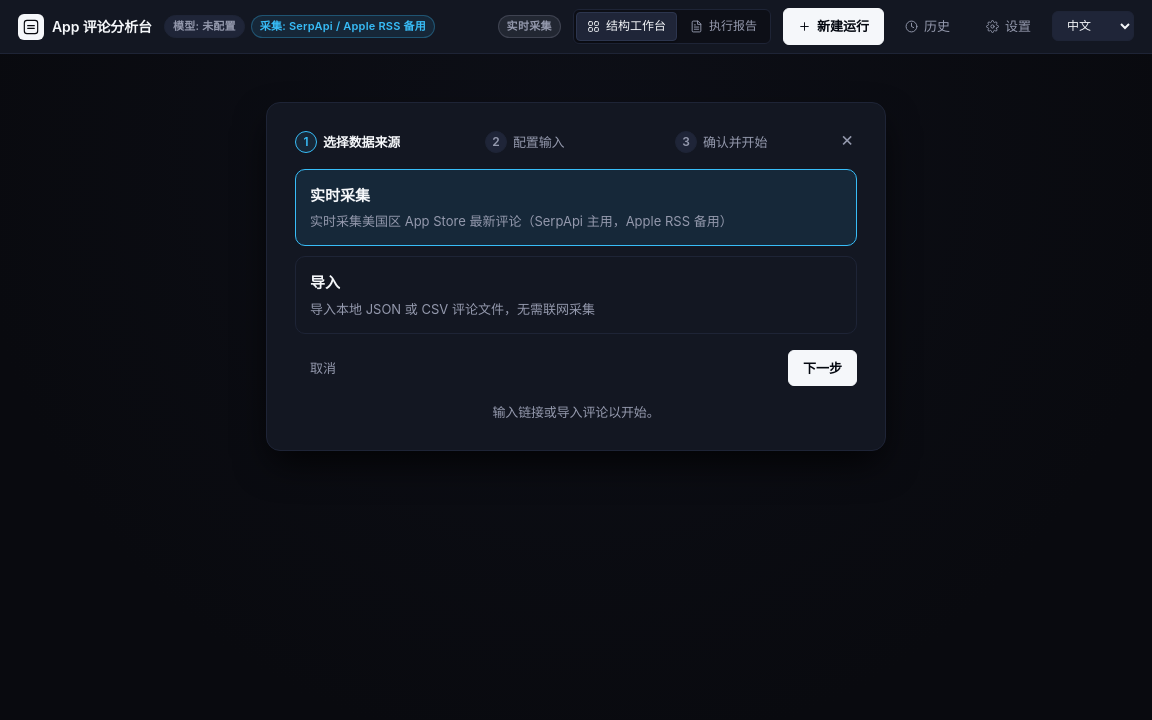
Workbench settings integration › opens the settings panel from the header button
The width and height of the screenshot is (1152, 720).
Click the button "设置" at [1008, 26], box [971,8,1046,44]
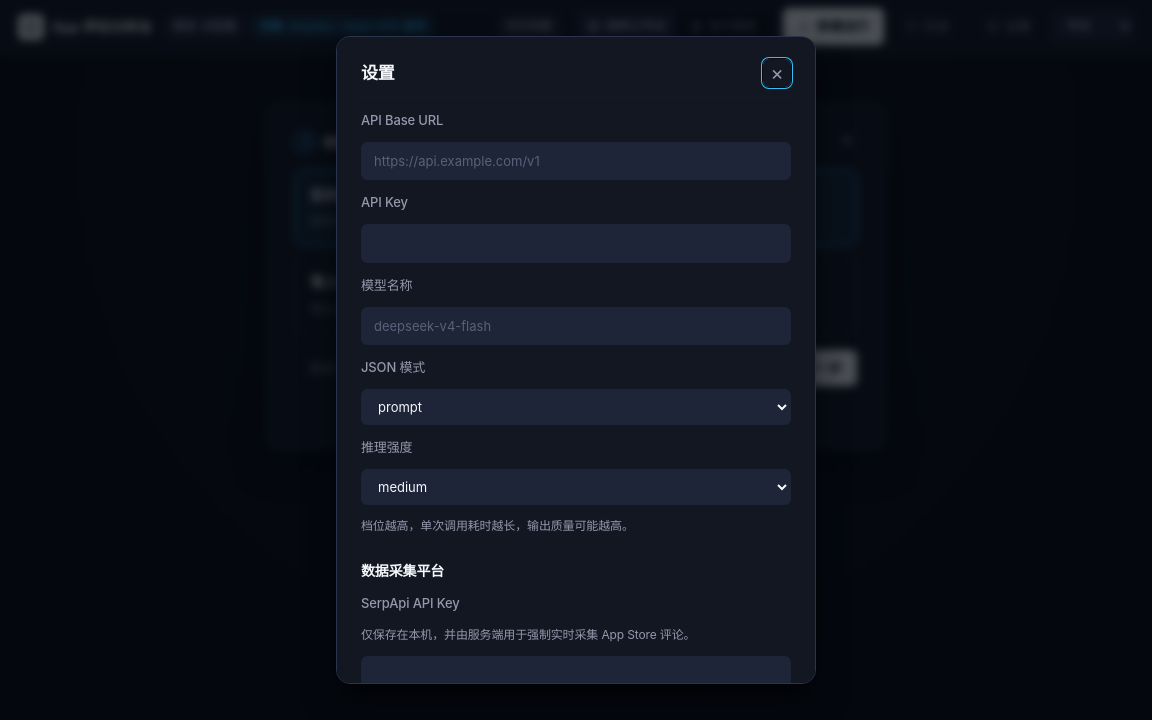
Check: the dialog "设置" is shown, box [336,36,816,684]
Check: the field labelled "API Base URL" is shown, box [361,142,791,180]
